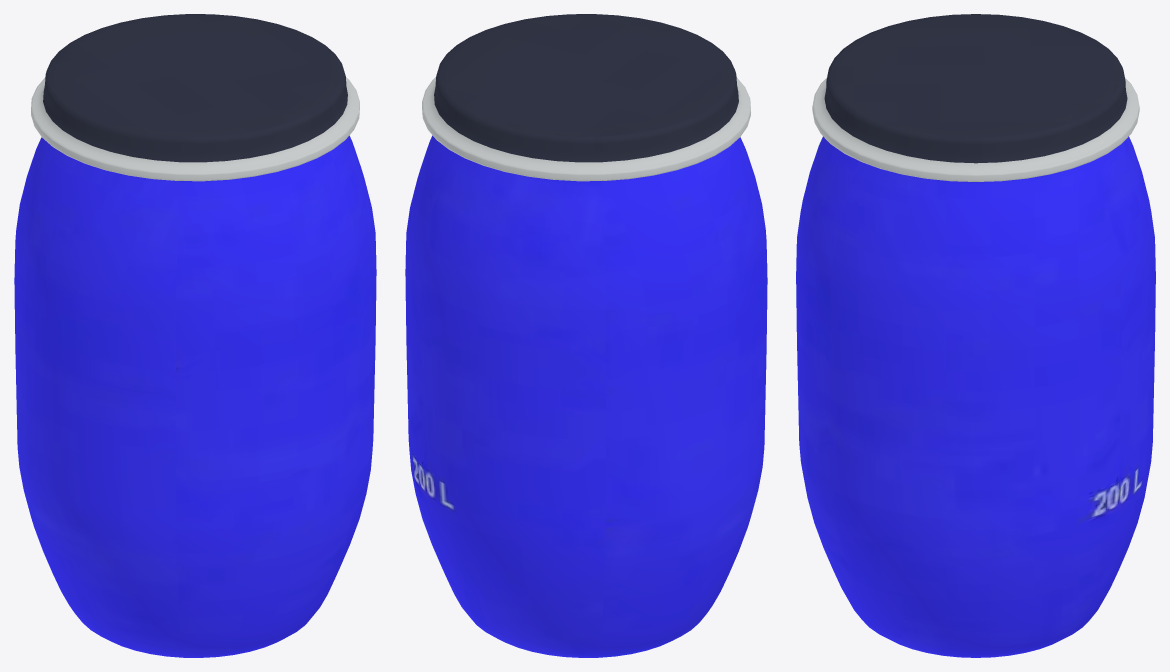
The model's file is water-drum.glb.
3 renders of one model, left to right at view 1: azimuth 30°, elevation 25°; view 2: azimuth 150°, elevation 25°; view 3: azimuth 270°, elevation 25°, orthographic.
Parts seen in each view (by area): view 1: pCylinder1_2, pCylinder1_3, pCylinder1_4; view 2: pCylinder1_2, pCylinder1_3, pCylinder1_4; view 3: pCylinder1_2, pCylinder1_3, pCylinder1_4.
Boxes of the visible parts, x1,y1,x2,y2 form: pCylinder1_2: [14, 135, 376, 657]; pCylinder1_3: [43, 14, 347, 162]; pCylinder1_4: [31, 77, 359, 181]; pCylinder1_2: [405, 135, 767, 657]; pCylinder1_3: [434, 14, 738, 162]; pCylinder1_4: [422, 77, 750, 181]; pCylinder1_2: [796, 136, 1155, 657]; pCylinder1_3: [824, 14, 1127, 163]; pCylinder1_4: [812, 78, 1139, 181].
Bounding box in the file's own units: 0.0242 × 0.0398 × 0.024.
3 materials, 3 textured.
